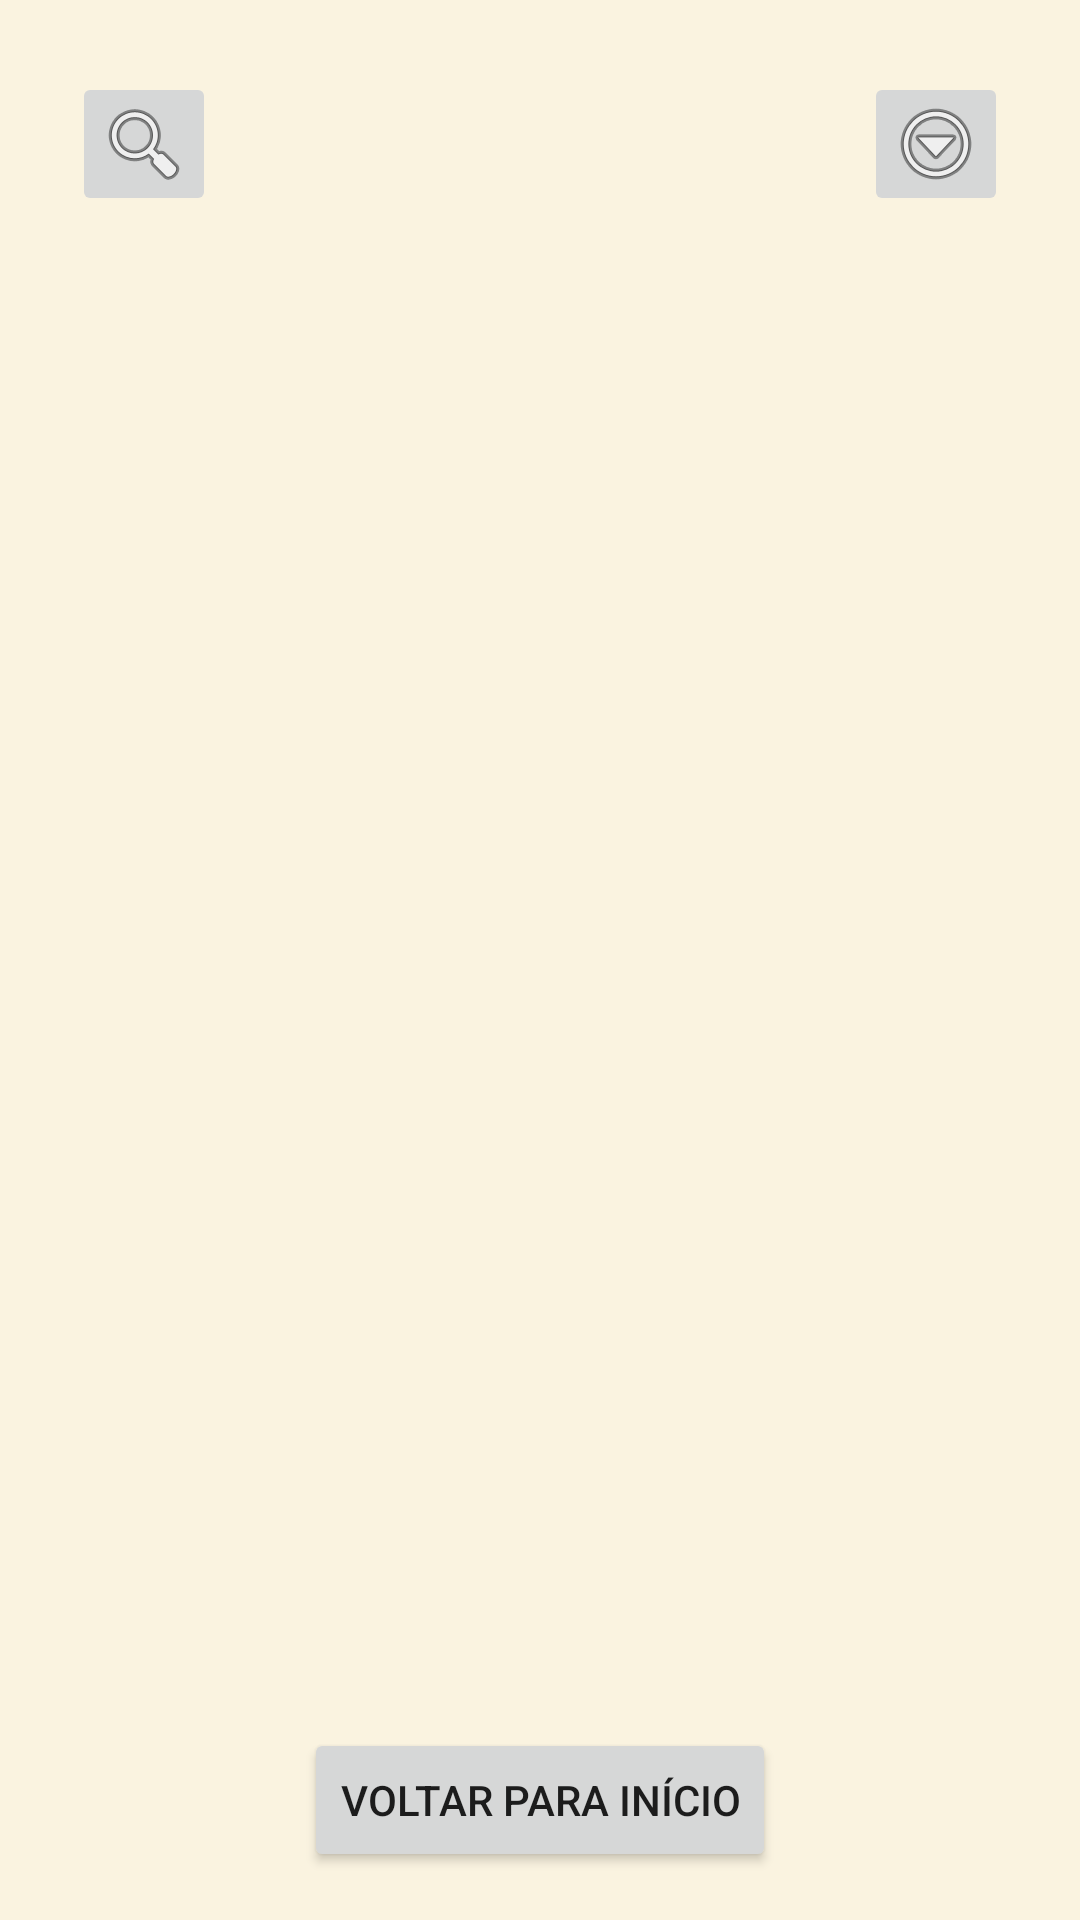

Where icons sit on this 1080px x 1920px app screen, as (x1, y1, x2, y2):
Menu Button: (876, 90, 996, 198)
